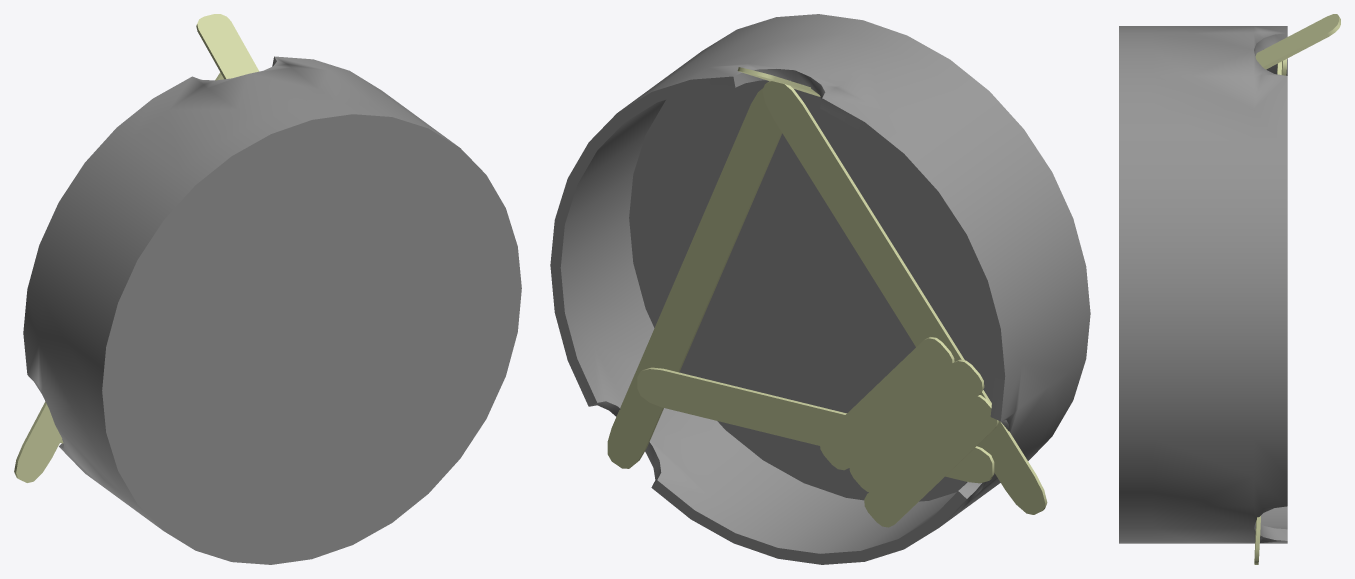
Rendered from ArtilleryTower_Base 1.fbx.
3 renders of one model, left to right at view 1: azimuth 30°, elevation 25°; view 2: azimuth 150°, elevation 25°; view 3: azimuth 270°, elevation 25°, orthographic. The views are drawn at different scales.
Parts seen in each view (by area): view 1: Plane.095; view 2: Plane.095; view 3: Plane.095.
Part boxes in pixels (<box>): Plane.095: <box>14,14,521,564</box>; Plane.095: <box>550,14,1090,564</box>; Plane.095: <box>1119,14,1340,564</box>.
Size of the model in its own units: 324 by 328 by 132.
